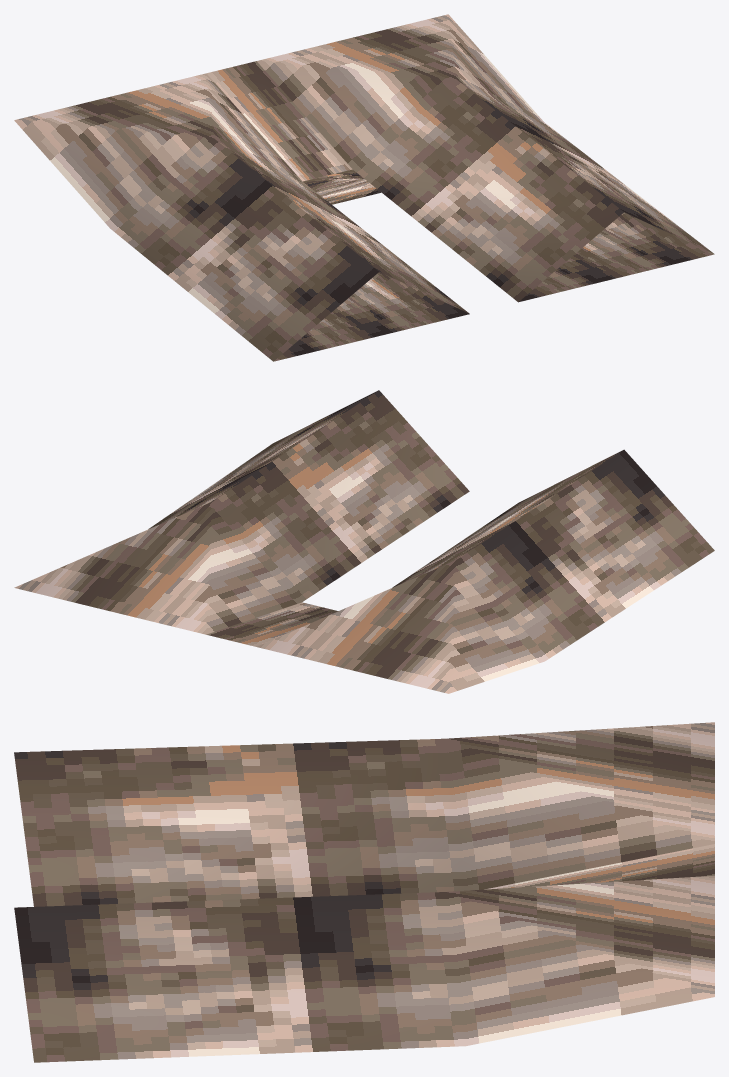
File: 2111pants000_r.gltf
3 views of the same model, one above another, from view 1: azimuth 30°, elevation 25°; view 2: azimuth 150°, elevation 25°; view 3: azimuth 270°, elevation 25° (orthographic). The views are drawn at different scales.
Parts seen in each view (by area): view 1: 2111pants000_r; view 2: 2111pants000_r; view 3: 2111pants000_r.
Part boxes in pixels (x1,y1,x2,y2): 2111pants000_r: [14, 14, 714, 361]; 2111pants000_r: [14, 390, 714, 693]; 2111pants000_r: [14, 722, 714, 1062].
Size of the model in its own units: 0.7793 by 0.1667 by 0.8264.
1 material, 1 textured.
